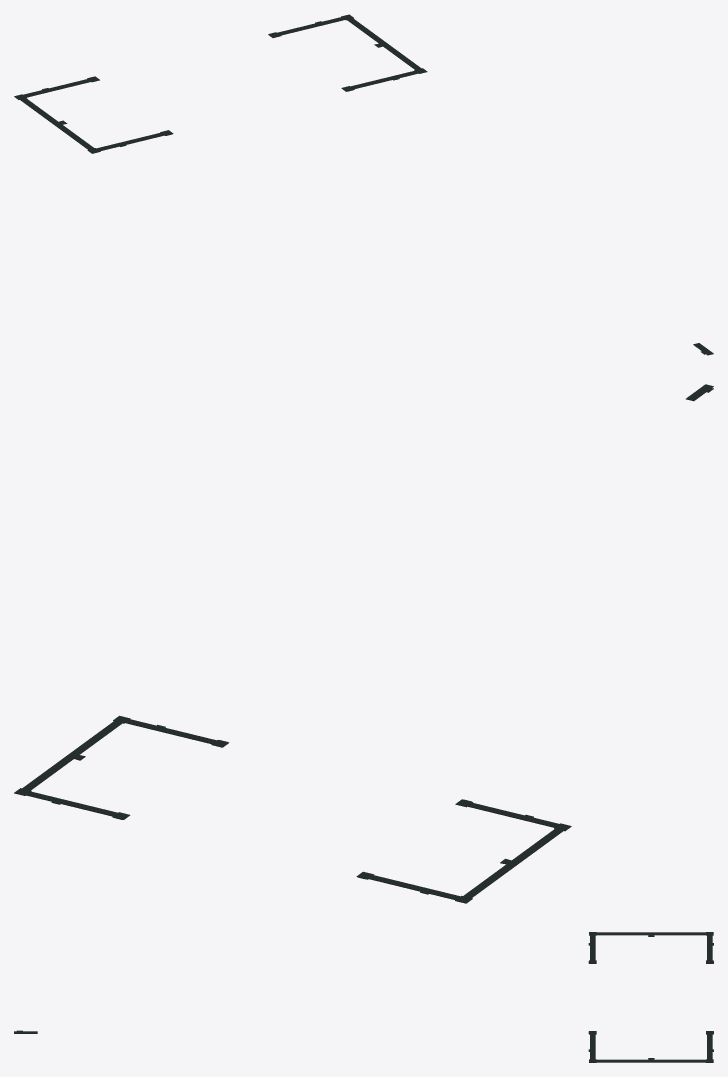
File: AST-STF-G3-027.glb
3 views of the same model, one above another, from view 1: azimuth 30°, elevation 25°; view 2: azimuth 150°, elevation 25°; view 3: azimuth 270°, elevation 25° (orthographic). The views are drawn at different scales.
Parts seen in each view (by area): view 1: floor_staff_rubber_missing_d03_floor; view 2: floor_staff_rubber_missing_d03_floor; view 3: floor_staff_rubber_missing_d03_floor.
Part boxes in pixels (x1,y1,x2,y2): floor_staff_rubber_missing_d03_floor: (14, 14, 713, 355); floor_staff_rubber_missing_d03_floor: (14, 384, 713, 903); floor_staff_rubber_missing_d03_floor: (14, 932, 713, 1062).
Size of the model in its own units: 211 by 0.24 by 479.
Materials: 1 (1 with a texture image).
